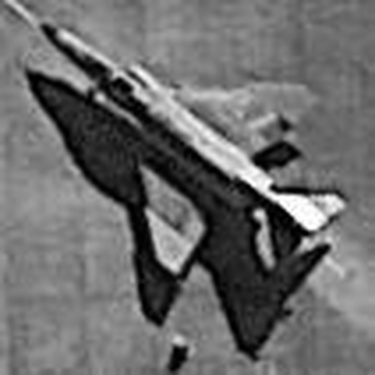airplane: (17, 13, 361, 328)
